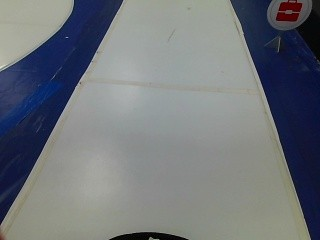company: (261, 0, 311, 28)
